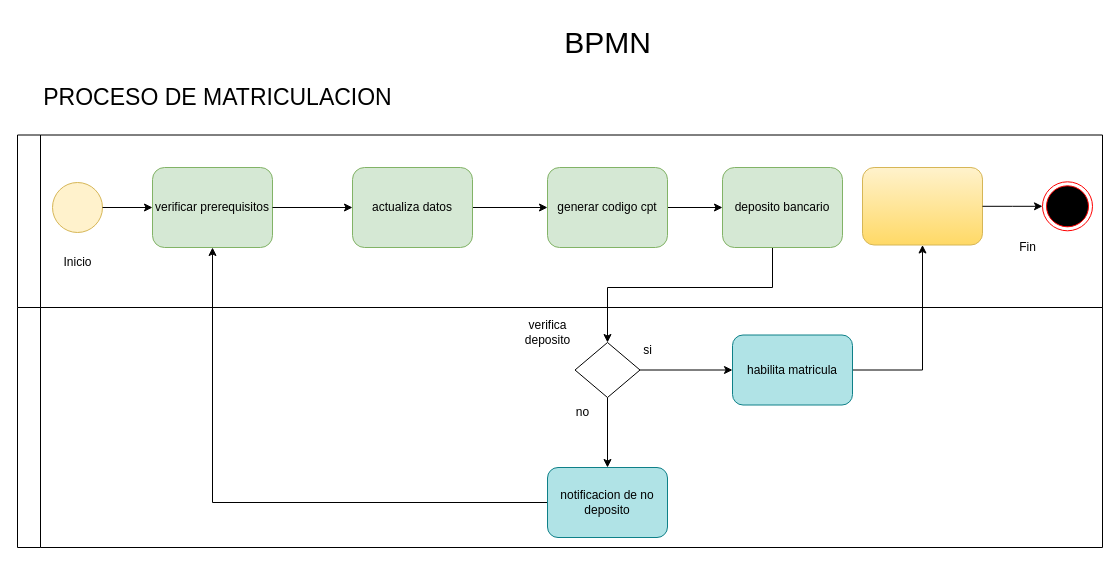
This 1120x565 diagram has some shape labels left out. Here are the shapes that lost their labels. From the top down, the box of each, then its label:
(16, 134, 1102, 308): estudiante
(862, 166, 982, 245): imprime matricula
(16, 306, 1102, 548): kardex
